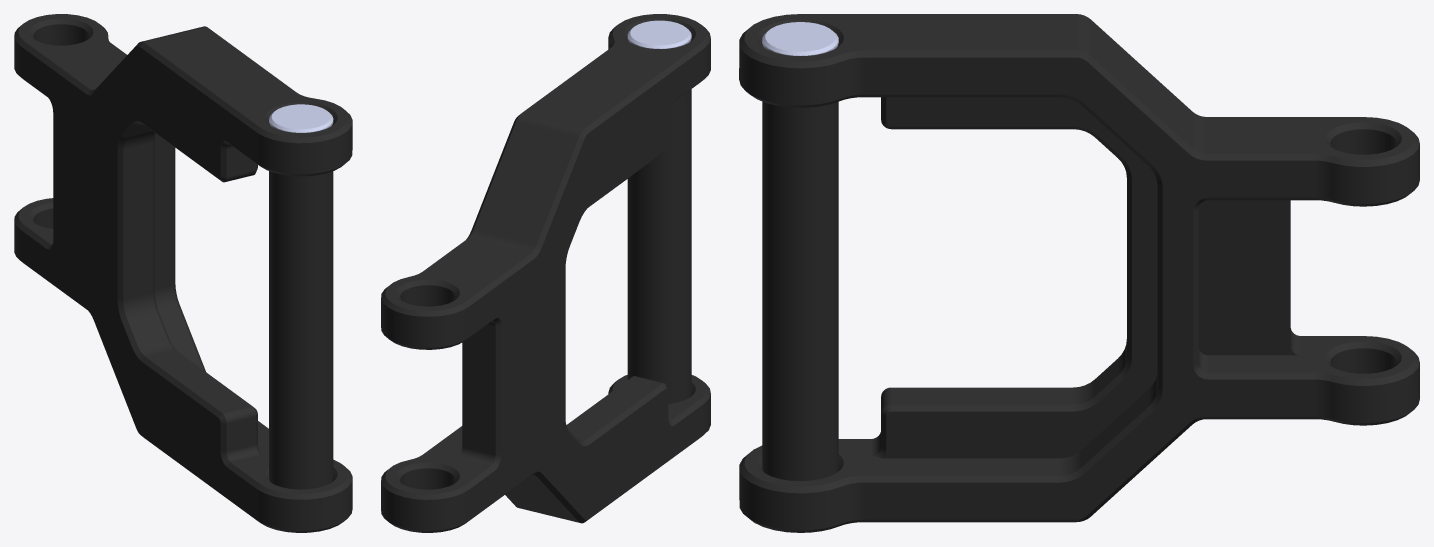
3 views of the same model, side by side, from view 1: azimuth 30°, elevation 25°; view 2: azimuth 150°, elevation 25°; view 3: azimuth 270°, elevation 25° (orthographic). The views are drawn at different scales.
Parts seen in each view (by area): view 1: FINGER_PROXIMAL_PHALANX_V3_29.STEP; view 2: FINGER_PROXIMAL_PHALANX_V3_29.STEP; view 3: FINGER_PROXIMAL_PHALANX_V3_29.STEP.
Part boxes in pixels (left/top/right/bottom): FINGER_PROXIMAL_PHALANX_V3_29.STEP: left=14, top=14, right=352, bottom=532; FINGER_PROXIMAL_PHALANX_V3_29.STEP: left=381, top=14, right=710, bottom=532; FINGER_PROXIMAL_PHALANX_V3_29.STEP: left=739, top=14, right=1419, bottom=532.
Bounding box in the file's own units: 0.012 × 0.051 × 0.0665.
